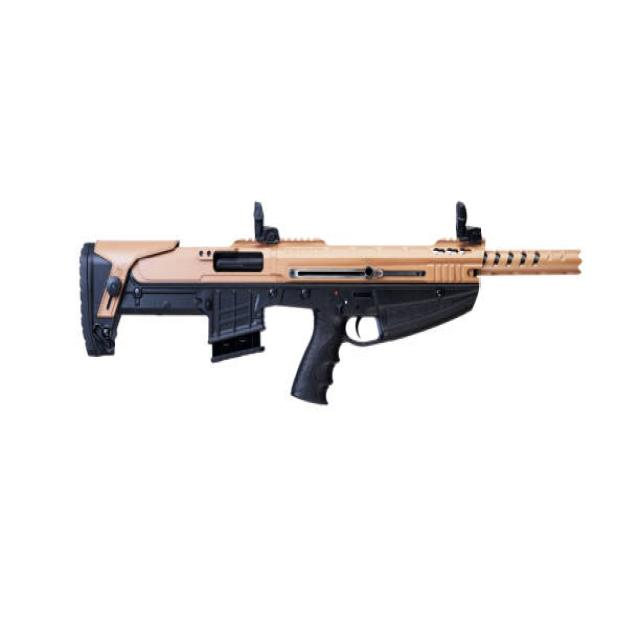rifle: (70, 196, 587, 413)
